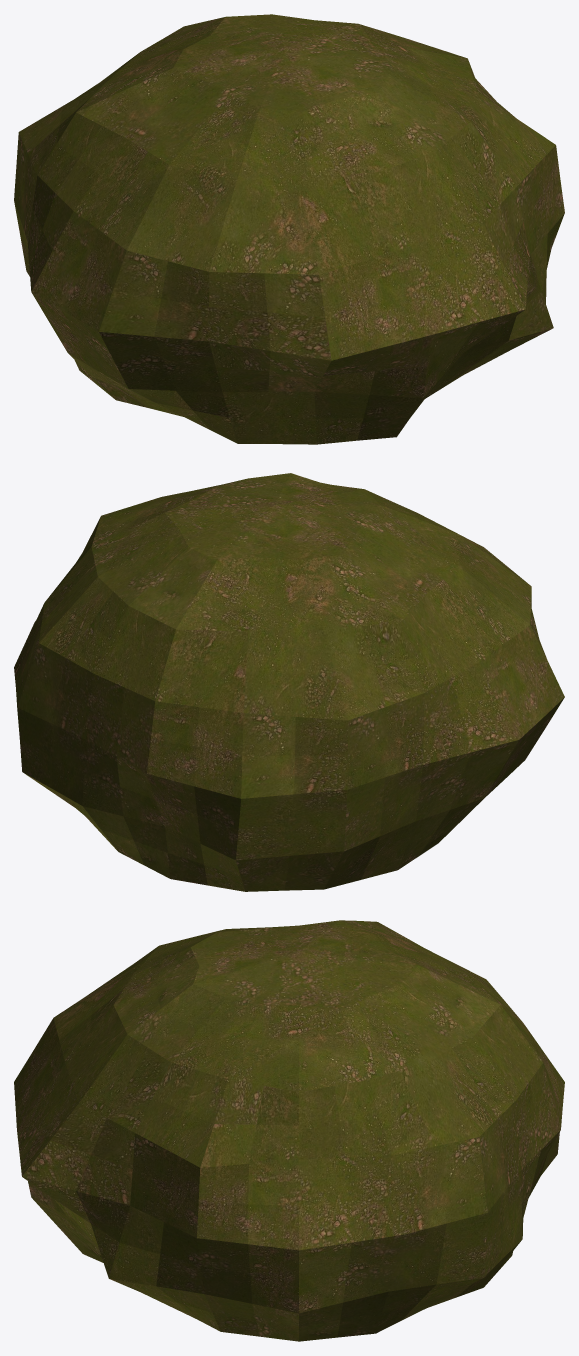
The model's file is round_1.glb.
3 renders of one model, top to bottom at view 1: azimuth 30°, elevation 25°; view 2: azimuth 150°, elevation 25°; view 3: azimuth 270°, elevation 25°, orthographic. The views are drawn at different scales.
Visible parts, largest first — view 1: round; view 2: round; view 3: round.
Boxes of the visible parts, x1,y1,x2,y2 form: round: [14, 14, 564, 444]; round: [14, 473, 564, 891]; round: [14, 920, 564, 1341].
Size of the model in its own units: 2.71 by 1.85 by 2.61.
1 material, 1 textured.
